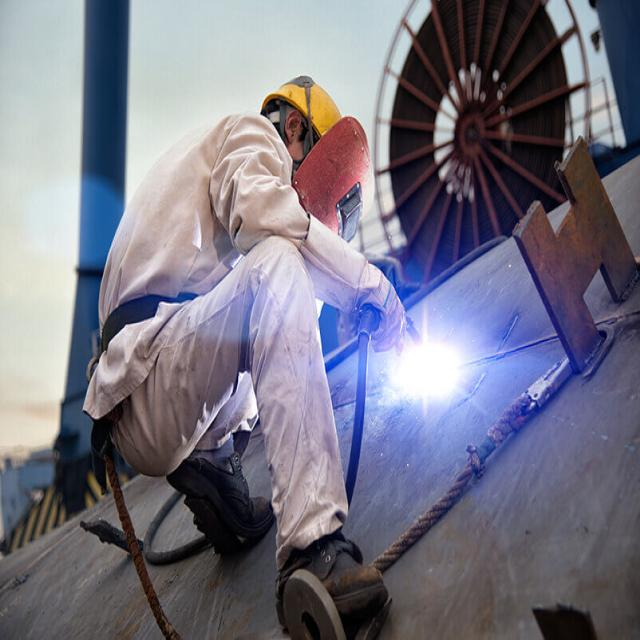welding: (400, 347, 453, 397)
